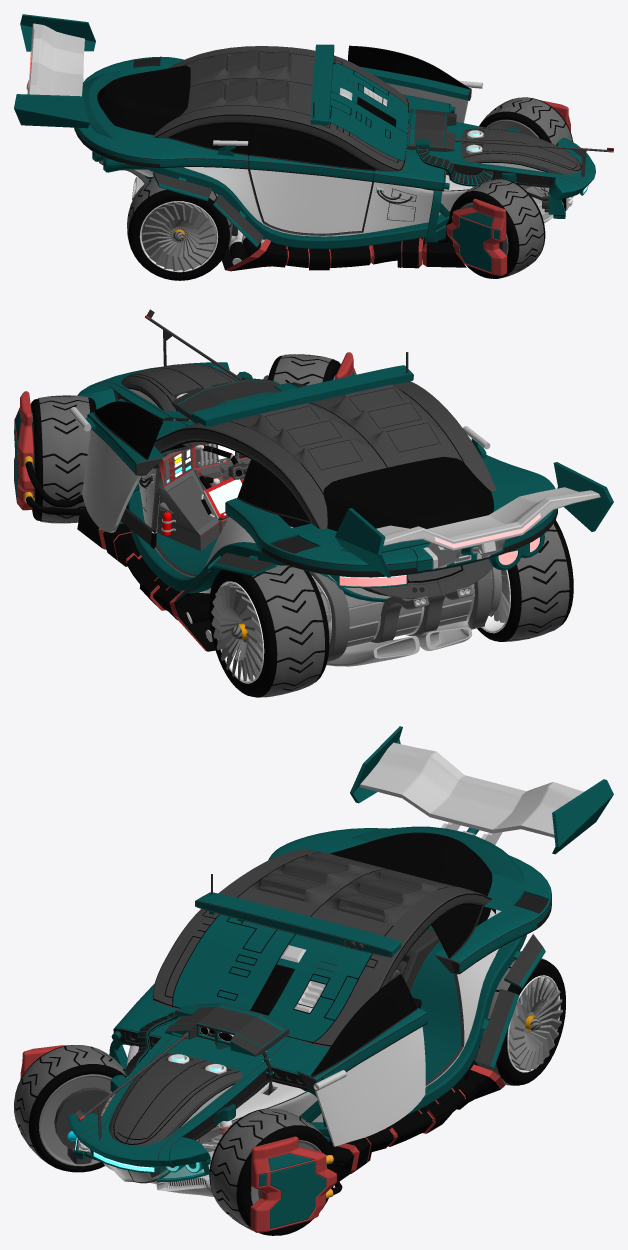
The model's file is cyberpsycho.glb.
The picture shows the model from 3 angles, top to bottom: view 1: azimuth 30°, elevation 25°; view 2: azimuth 150°, elevation 25°; view 3: azimuth 270°, elevation 25°; orthographic projection. The views are drawn at different scales.
Parts seen in each view (by area): view 1: Object341_Material #2071_0, Object341_Material #2255_0, Object341_Material #4631_0, Object341_Material #2258_0, Object341_Material #2256_0, Object341_Material #3561_0, Object341_Material #3499_0, Object341_Material #2567_0, Object341_Material #4438_0, Object341_black_0, Object341_Material #2936_0, Object341_Material #5522_0 (+4 smaller); view 2: Object341_Material #4631_0, Object341_Material #2071_0, Object341_Material #3499_0, Object341_Material #2258_0, Object341_Material #2255_0, Object341_Material #3561_0, Object341_Material #2256_0, Object341_Material #4815_0, Object341_black_0, Object341_Material #3688_0, Object341_Material #2567_0, Object341_Material #4438_0 (+12 smaller); view 3: Object341_Material #2071_0, Object341_Material #4631_0, Object341_Material #2255_0, Object341_Material #2256_0, Object341_Material #2258_0, Object341_black_0, Object341_Material #3561_0, Object341_Material #3499_0, Object341_Material #2567_0, Object341_Material #2936_0, Object341_Material #4438_0, Object341_Material #5522_0 (+4 smaller).
Part boxes in pixels (bbox=[...]): Object341_Material #2071_0: bbox=[14, 14, 595, 272]; Object341_Material #2255_0: bbox=[26, 23, 573, 264]; Object341_Material #4631_0: bbox=[153, 46, 613, 200]; Object341_Material #2258_0: bbox=[97, 45, 469, 170]; Object341_Material #2256_0: bbox=[82, 48, 519, 248]; Object341_Material #3561_0: bbox=[127, 97, 573, 280]; Object341_Material #3499_0: bbox=[127, 97, 572, 277]; Object341_Material #2567_0: bbox=[141, 119, 539, 271]; Object341_Material #4438_0: bbox=[222, 198, 566, 271]; Object341_black_0: bbox=[74, 56, 588, 250]; Object341_Material #2936_0: bbox=[225, 100, 613, 275]; Object341_Material #5522_0: bbox=[74, 58, 568, 199]; Object341_Material #4631_0: bbox=[121, 309, 496, 598]; Object341_Material #2071_0: bbox=[14, 362, 613, 601]; Object341_Material #3499_0: bbox=[38, 354, 569, 697]; Object341_Material #2258_0: bbox=[94, 401, 493, 548]; Object341_Material #2255_0: bbox=[69, 388, 600, 641]; Object341_Material #3561_0: bbox=[30, 354, 573, 697]; Object341_Material #2256_0: bbox=[85, 371, 486, 602]; Object341_Material #4815_0: bbox=[139, 477, 492, 661]; Object341_black_0: bbox=[32, 352, 502, 638]; Object341_Material #3688_0: bbox=[157, 442, 251, 550]; Object341_Material #2567_0: bbox=[31, 375, 509, 681]; Object341_Material #4438_0: bbox=[77, 511, 215, 651]; Object341_Material #2071_0: bbox=[67, 726, 613, 1229]; Object341_Material #4631_0: bbox=[54, 850, 491, 1183]; Object341_Material #2255_0: bbox=[77, 742, 583, 1184]; Object341_Material #2256_0: bbox=[109, 826, 526, 1146]; Object341_Material #2258_0: bbox=[311, 832, 495, 1076]; Object341_black_0: bbox=[77, 874, 542, 1198]; Object341_Material #3561_0: bbox=[14, 959, 565, 1235]; Object341_Material #3499_0: bbox=[14, 951, 545, 1234]; Object341_Material #2567_0: bbox=[39, 977, 562, 1204]; Object341_Material #2936_0: bbox=[20, 1035, 505, 1232]; Object341_Material #4438_0: bbox=[77, 1070, 500, 1181]; Object341_Material #5522_0: bbox=[102, 858, 551, 1166].
Bounding box in the file's own units: 3.51 × 1.16 × 2.85.
